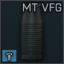Monstrum Tactical Vertical Fore Grip KeyMod: (0, 0, 64, 64)
